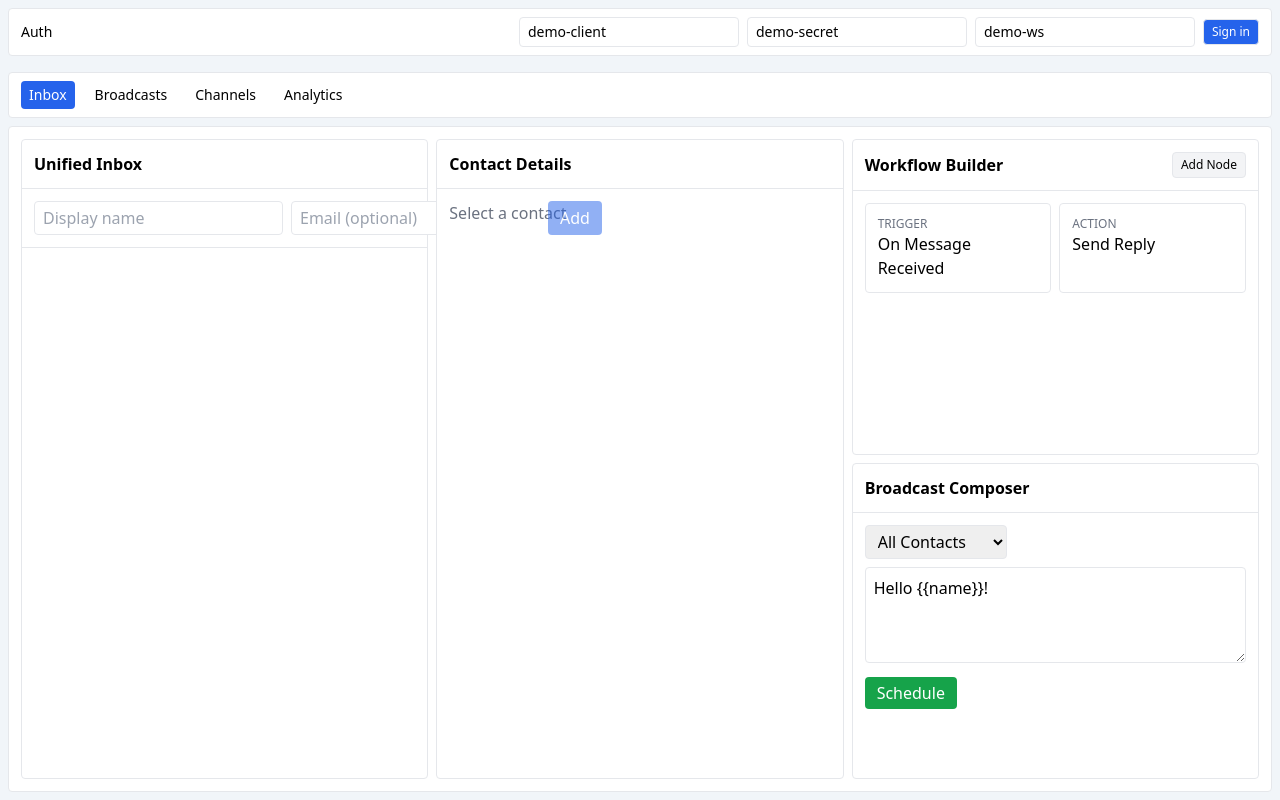
Test: App navigation › navigates between primary pages via top navigation
This screenshot has width=1280, height=800.
Expected: the heading "Unified Inbox" is shown, top-left (34, 153), bottom-right (142, 175)
Click the link "Broadcasts". click: x=131, y=94
box: top-left (95, 85), bottom-right (167, 104)
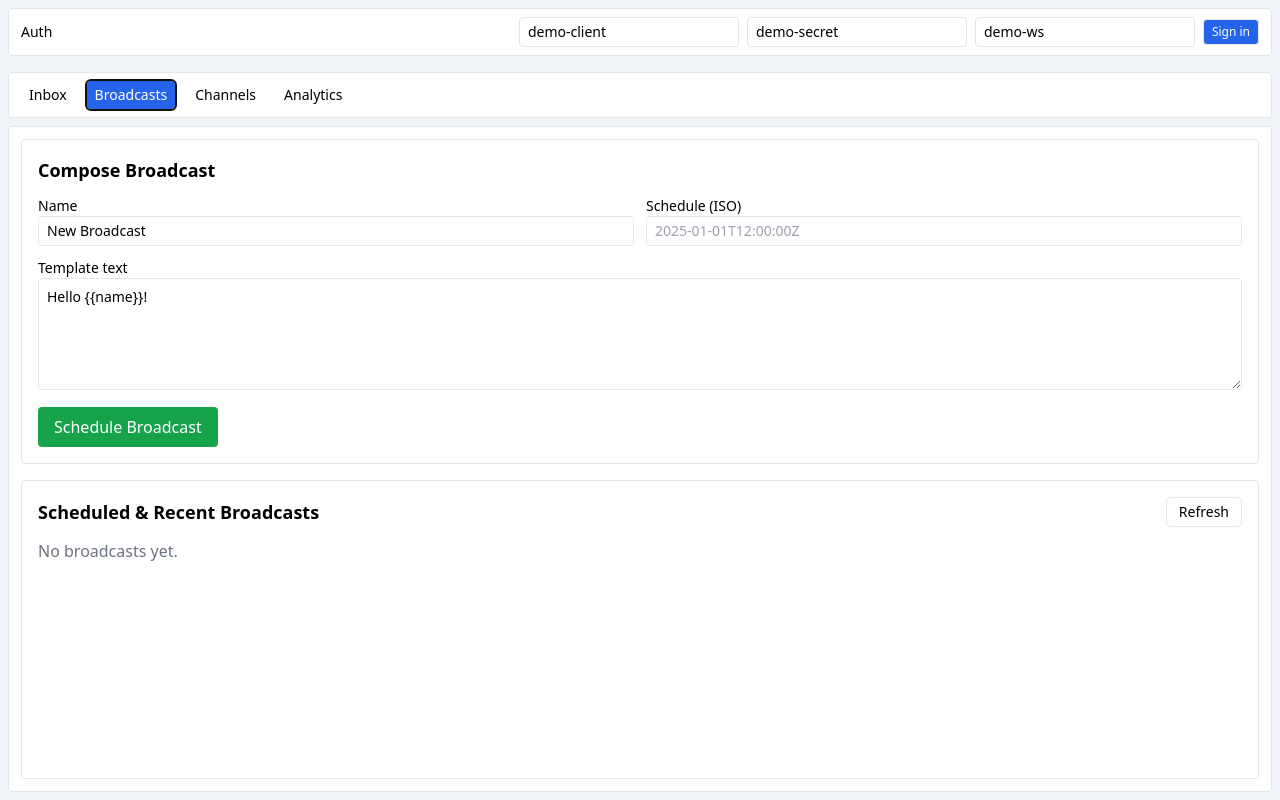
Now the heading "Compose Broadcast" is shown, box top-left (38, 158), bottom-right (215, 182)
Click the link "Channels". click: x=226, y=94
box: top-left (195, 85), bottom-right (256, 104)
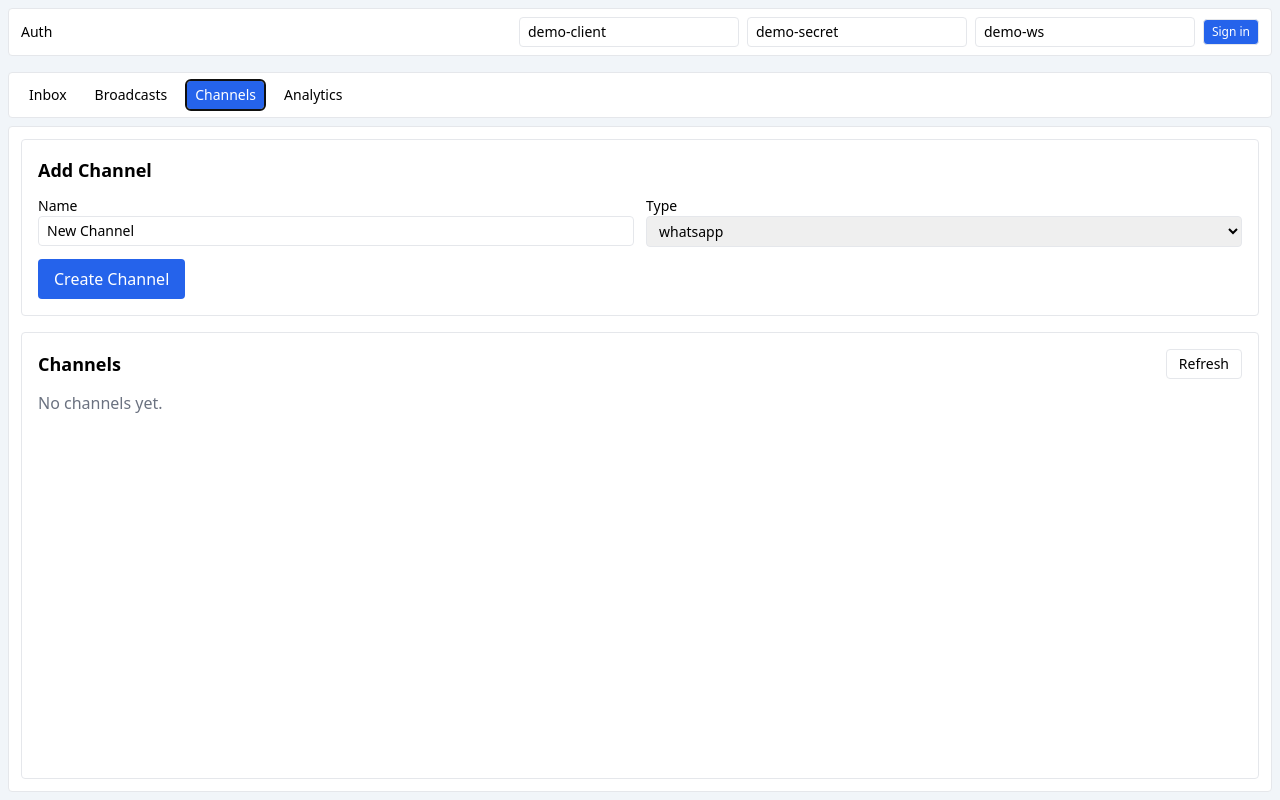
Now the heading "Add Channel" is shown, box top-left (38, 158), bottom-right (152, 182)
Click the link "Analytics". click: x=313, y=94
box: top-left (284, 85), bottom-right (342, 104)
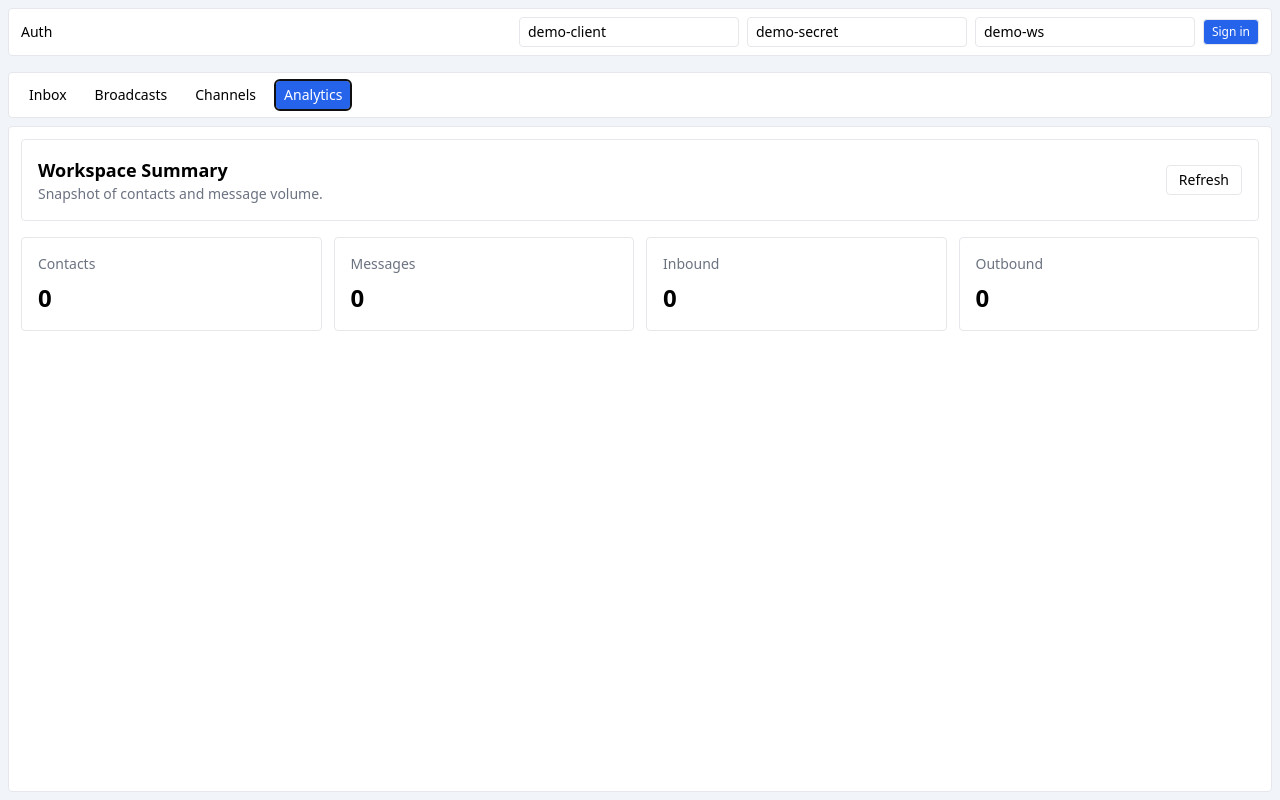
Now the heading "Workspace Summary" is shown, box top-left (38, 158), bottom-right (228, 182)
